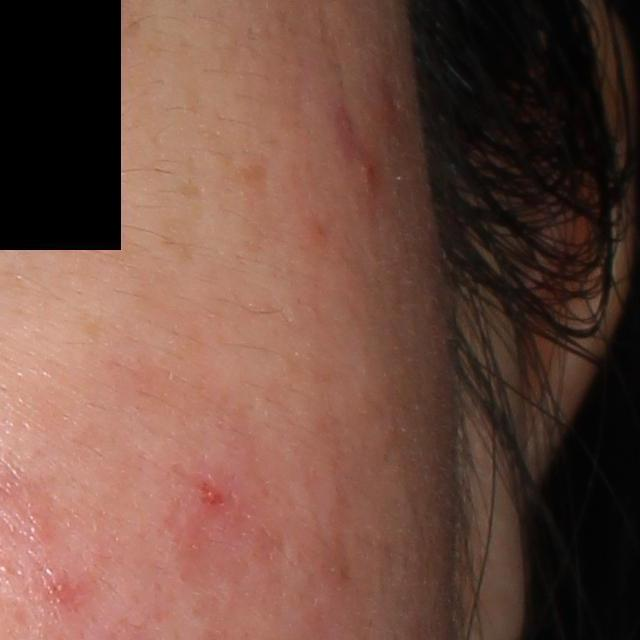melasma: (201, 128, 270, 220), (158, 217, 194, 265)
papule: (181, 473, 235, 524), (33, 569, 76, 606), (356, 158, 380, 191)
